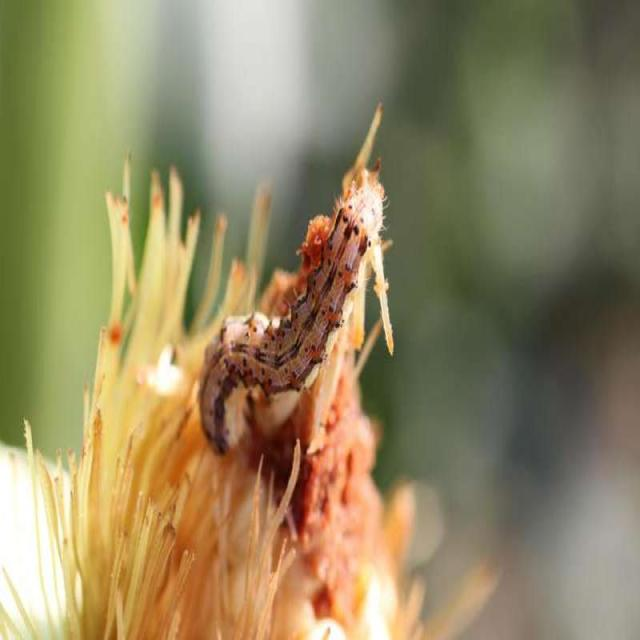worm: (198, 100, 395, 457)
